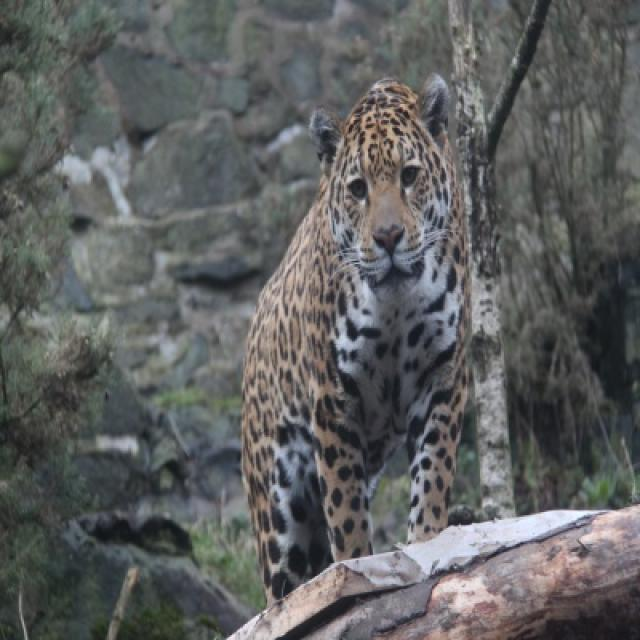Jaguar: (240, 80, 474, 611)
